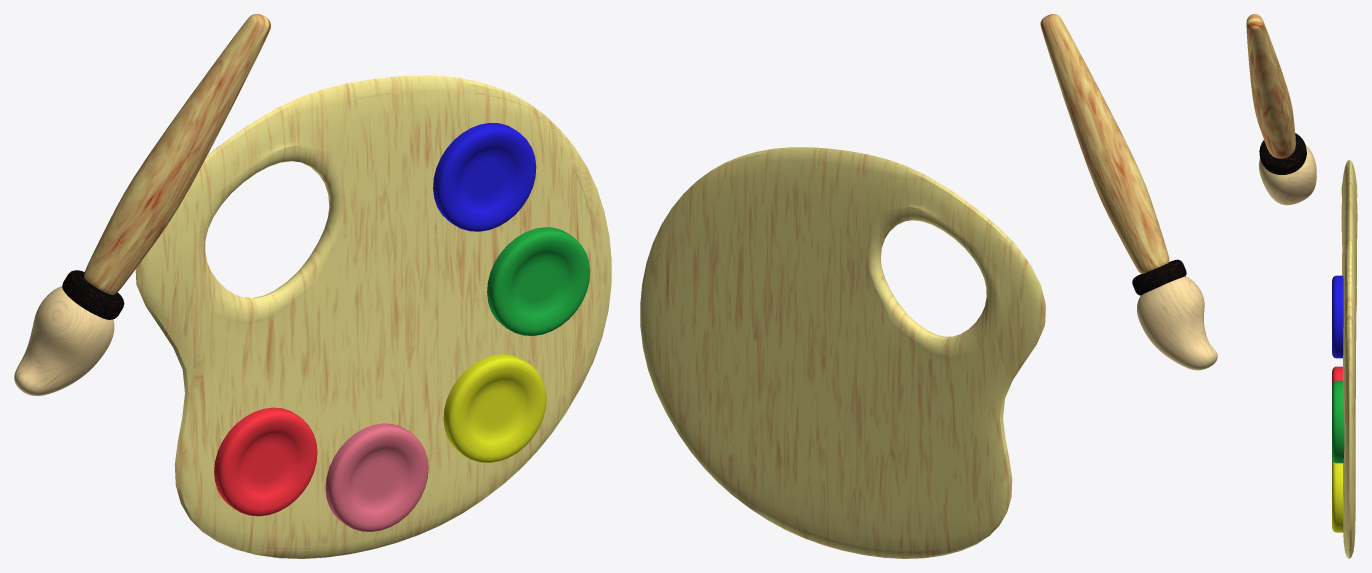
File: pallate.glb
3 views of the same model, side by side, from view 1: azimuth 30°, elevation 25°; view 2: azimuth 150°, elevation 25°; view 3: azimuth 270°, elevation 25° (orthographic). The views are drawn at different scales.
Visible parts, largest first — view 1: Plane, Cylinder.001, Cylinder.003, Cube, Cylinder.002; view 2: Plane, Cylinder.003, Cube, Cylinder.002; view 3: Plane, Cylinder.003, Cylinder.001, Cube, Cylinder.002.
Boxes of the visible parts, <box> form: Plane: <box>135,75,611,558</box>; Cylinder.001: <box>214,122,590,531</box>; Cylinder.003: <box>84,14,270,294</box>; Cube: <box>14,286,114,395</box>; Cylinder.002: <box>62,270,124,319</box>; Plane: <box>640,147,1045,558</box>; Cylinder.003: <box>1040,14,1169,273</box>; Cube: <box>1137,276,1217,370</box>; Cylinder.002: <box>1132,259,1186,295</box>; Plane: <box>1341,160,1357,558</box>; Cylinder.003: <box>1246,14,1295,158</box>; Cylinder.001: <box>1332,275,1344,532</box>; Cube: <box>1259,144,1316,205</box>; Cylinder.002: <box>1259,133,1306,174</box>.
Size of the model in its own units: 7.53 by 7.09 by 1.56.
Materials: 9 (4 with a texture image).
